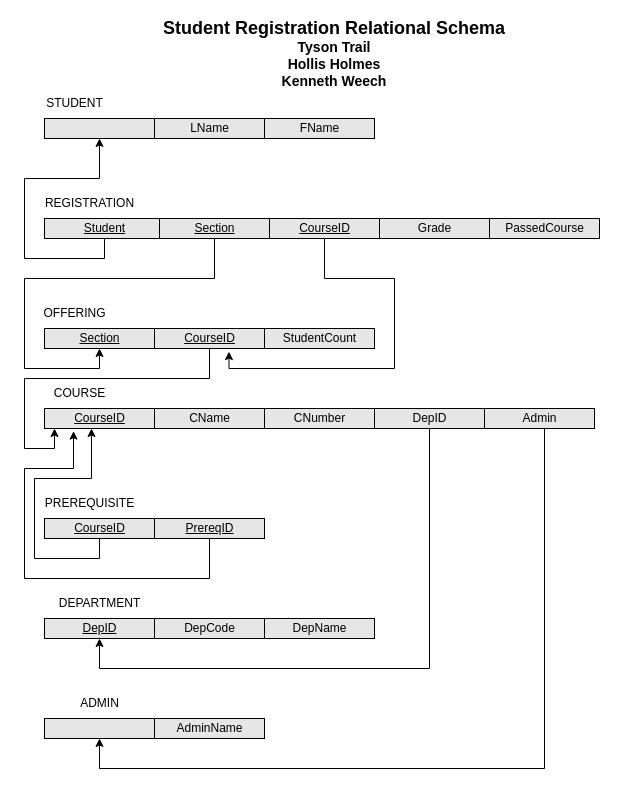
Image size: 617x794. Some labels were removed from this diagram. The shapes that lost their labels are listed below. From the top down, each one's centre as x and y in pixels, then its label:
At point 99,128: "StudentID".
At point 99,728: "AdminID".
